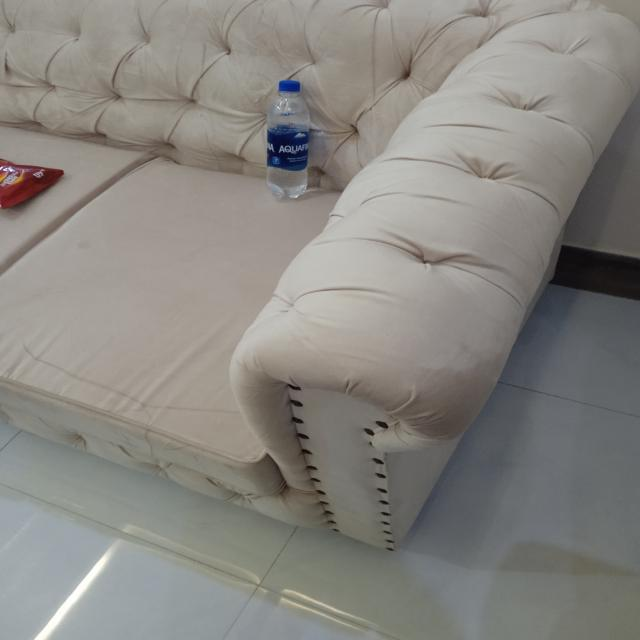Plastic: (262, 76, 316, 196)
